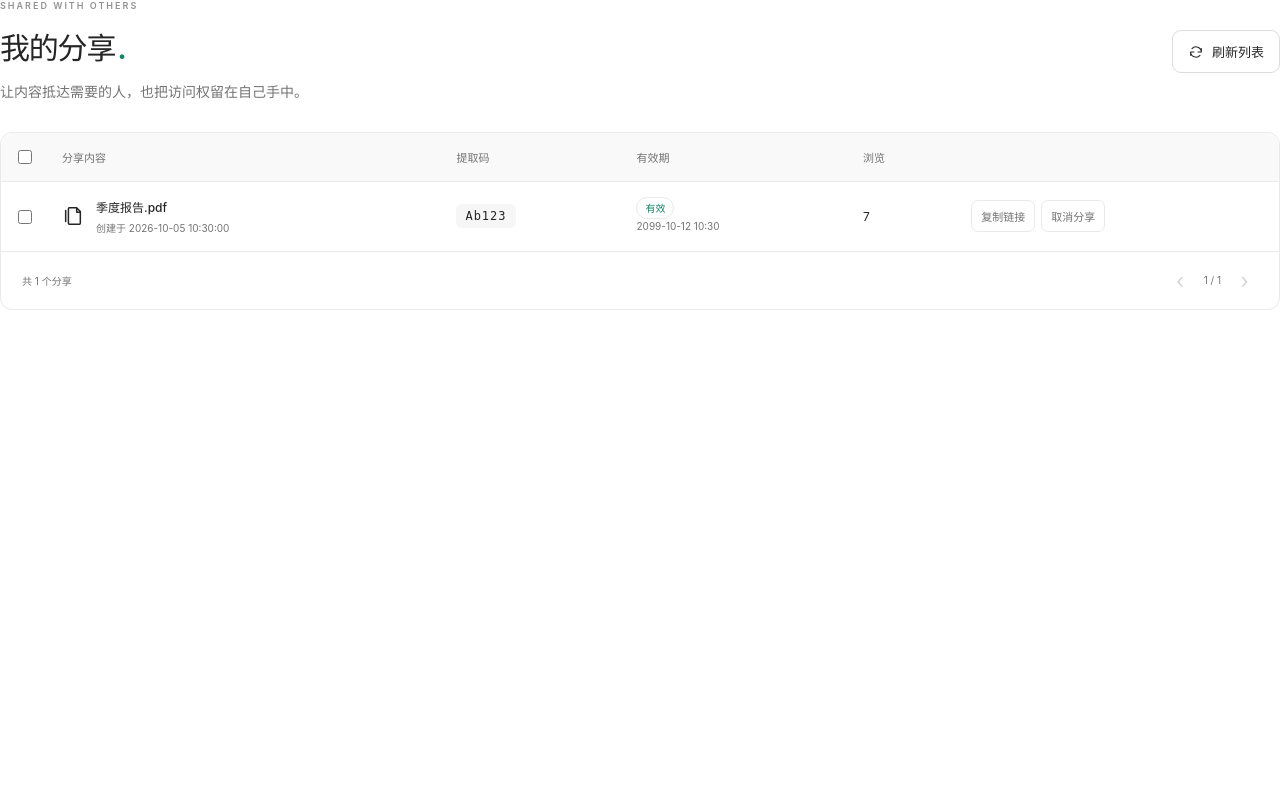
Test: 我的分享 › 取消分享必须确认，失败可重试且成功后重新读取列表
The image size is (1280, 800).
Click the button with aria-label "取消 季度报告.pdf 的分享".
click(1073, 216)  # box [1041,200,1105,232]
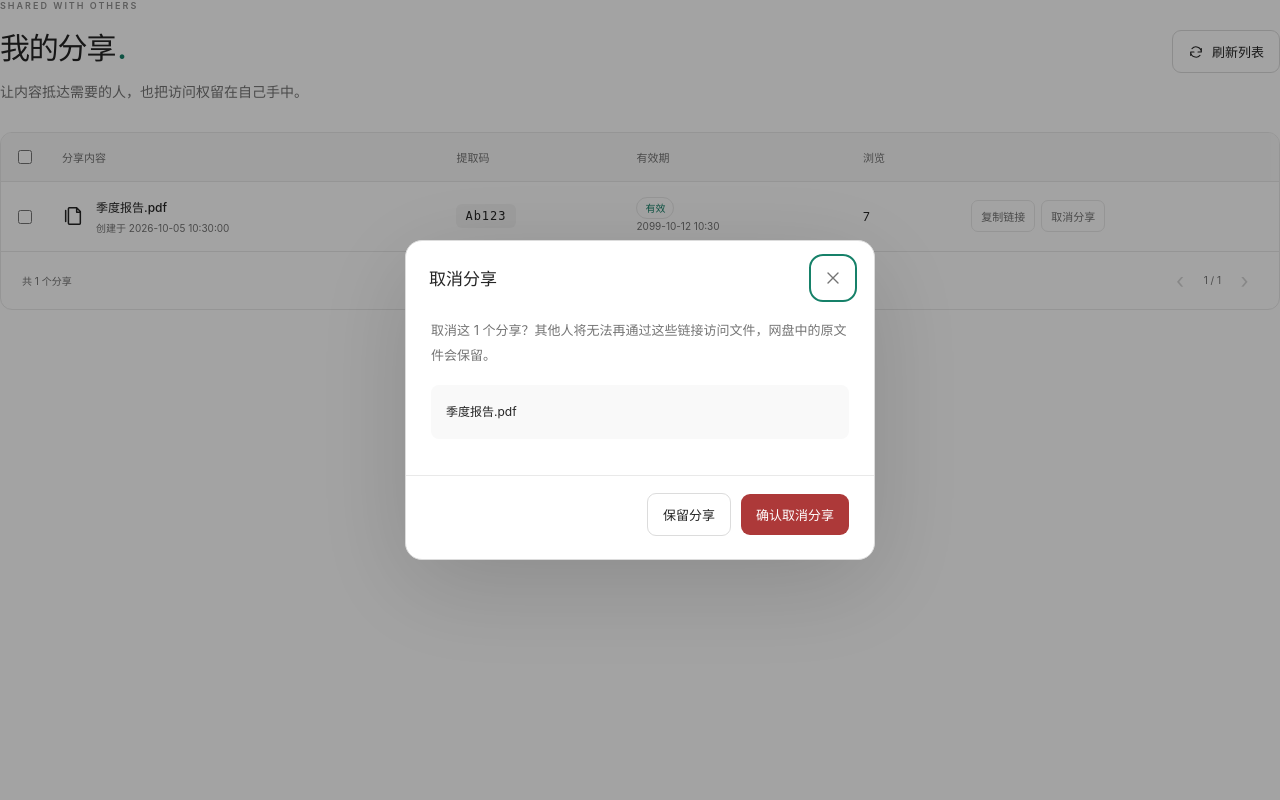
Click the button with class "secondary-button" showing "保留分享".
click(689, 515)  # box [647,493,731,536]
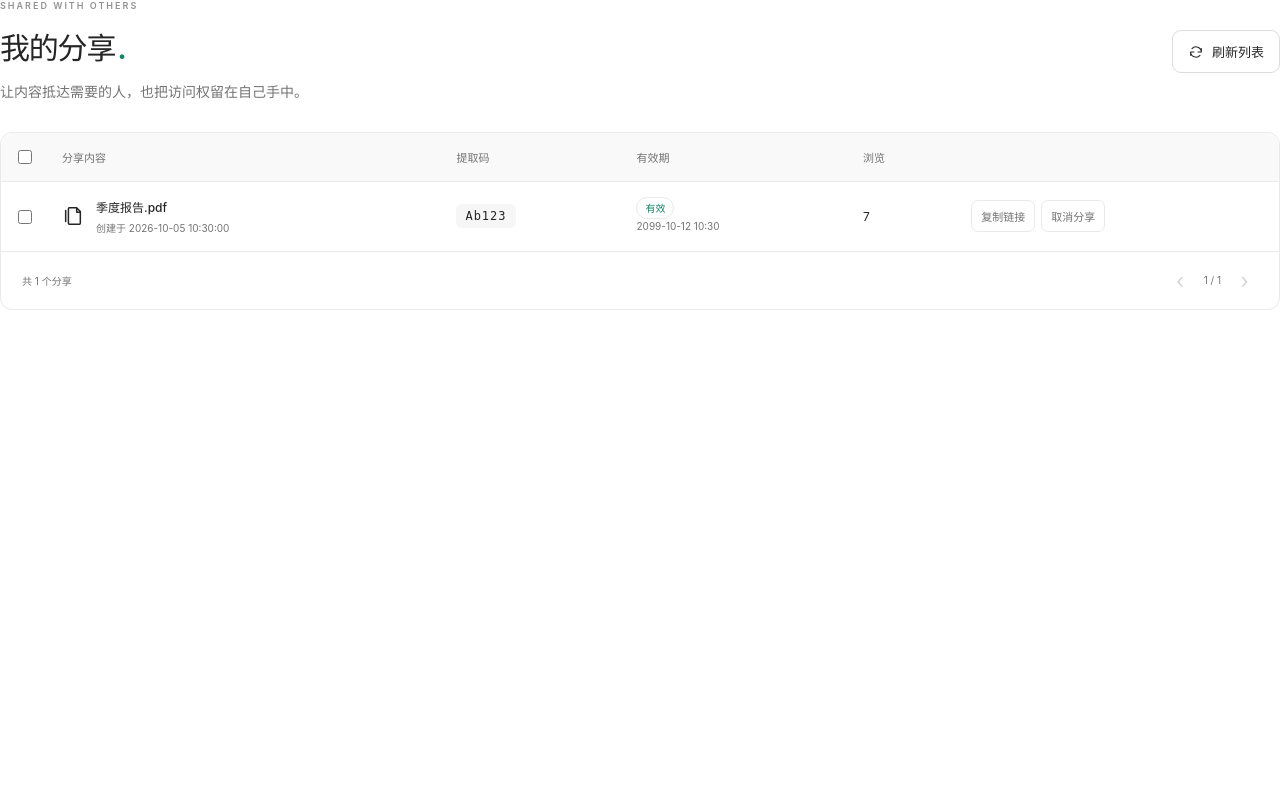
Click the button with aria-label "取消 季度报告.pdf 的分享".
click(1073, 216)  # box [1041,200,1105,232]
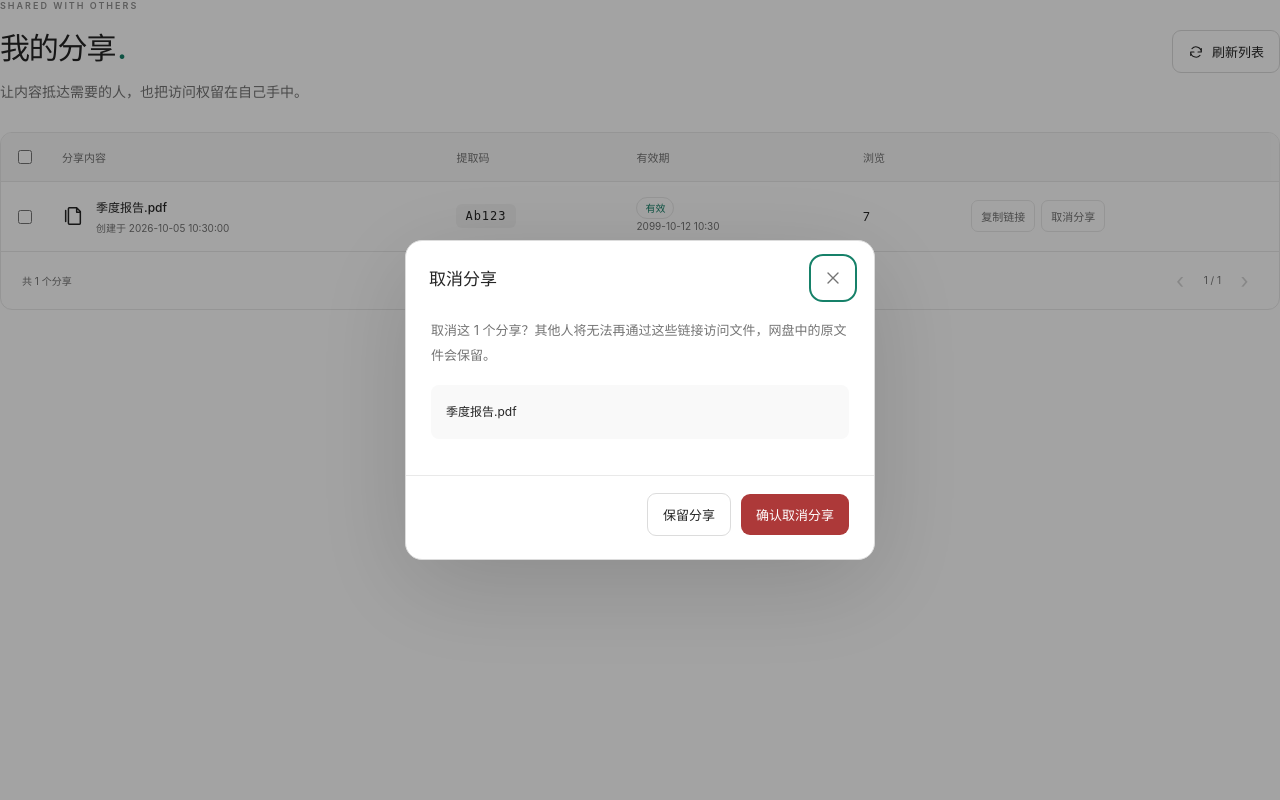
Click the button "确认取消分享".
click(795, 515)  # box [741,494,849,535]
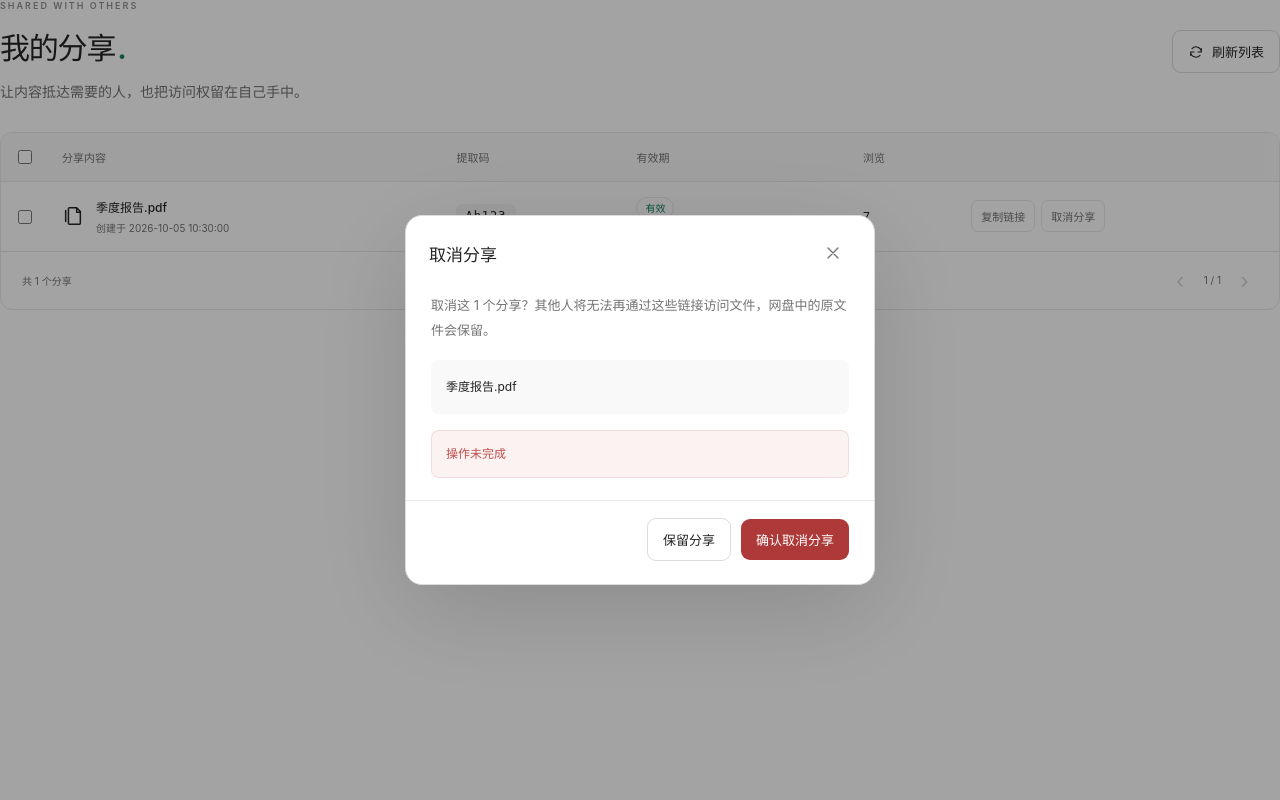
Expected: the dialog is shown, [405,215,875,585]
Expected: the message "操作未完成" is shown, [431,430,849,478]
Click the button "确认取消分享".
click(795, 540)  # box [741,519,849,560]
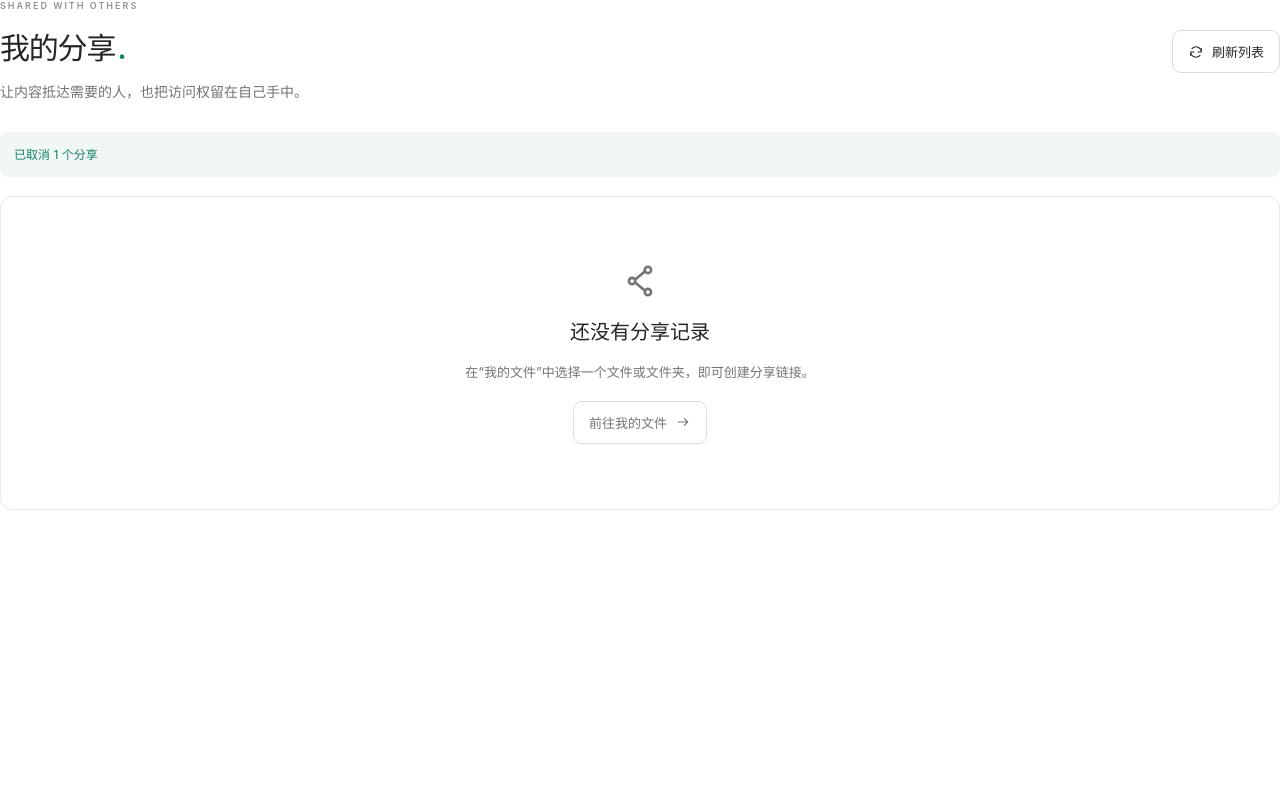
Expected: the message "已取消 1 个分享" is shown, [0,132,1279,177]
Expected: the text "还没有分享记录" is shown, [570,316,710,345]
